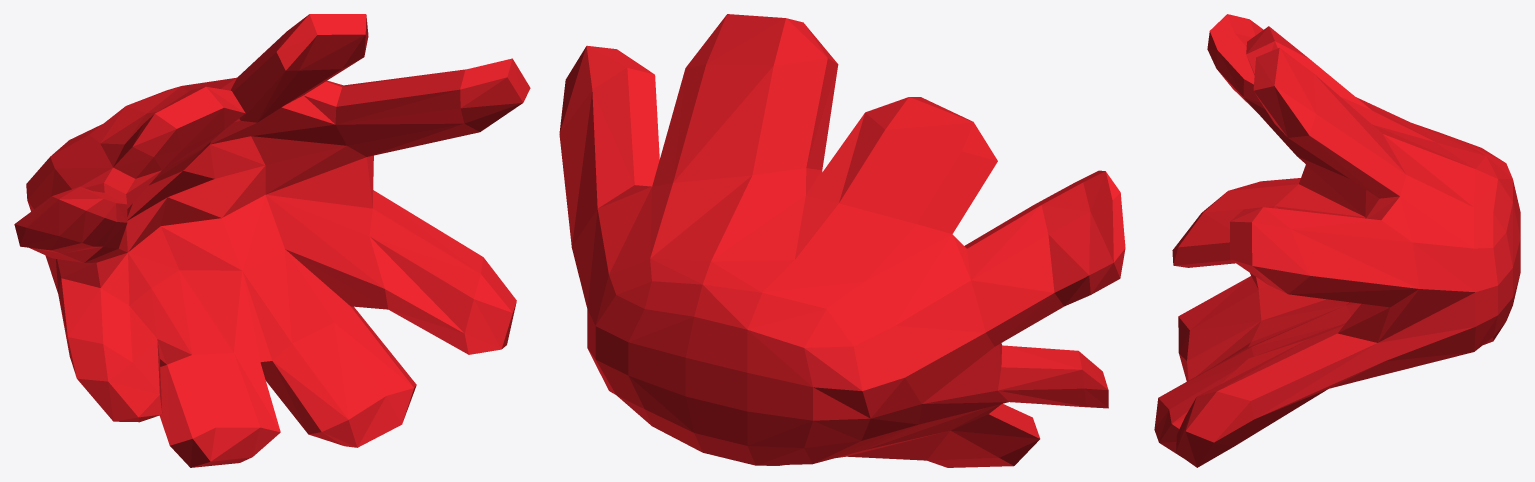
Rendered from pistolflash.obj.
3 renders of one model, left to right at view 1: azimuth 30°, elevation 25°; view 2: azimuth 150°, elevation 25°; view 3: azimuth 270°, elevation 25°, orthographic. The views are drawn at different scales.
Parts seen in each view (by area): view 1: cube3; view 2: cube3; view 3: cube3.
Boxes of the visible parts, x1,y1,x2,y2 form: cube3: (14, 14, 530, 467); cube3: (559, 14, 1125, 467); cube3: (1154, 14, 1520, 467).
Size of the model in its own units: 13.57 by 10.3 by 8.53.
1 material, 1 textured.
